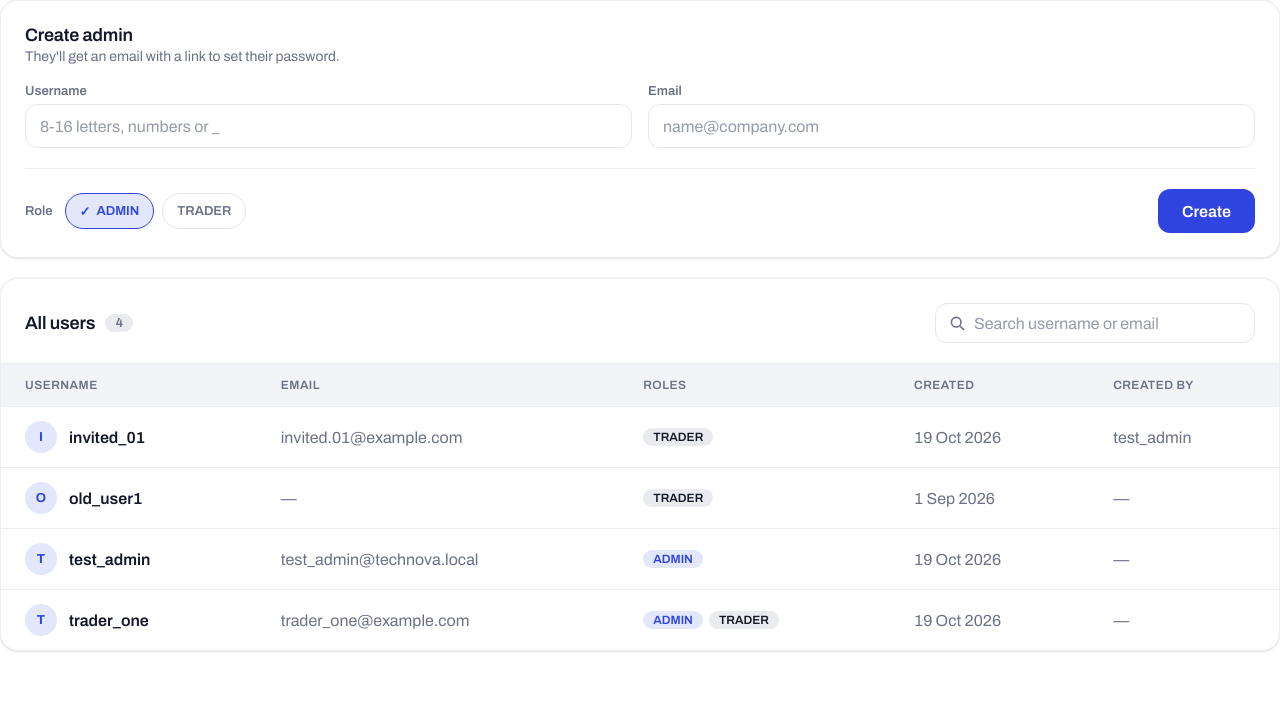
Test: AdminUsersComponent › create admin › adds the new user to the list in username order and confirms the email was sent
Type "new_admin" into the field with id "new-username" at (328, 126), box 25,104 -> 632,148
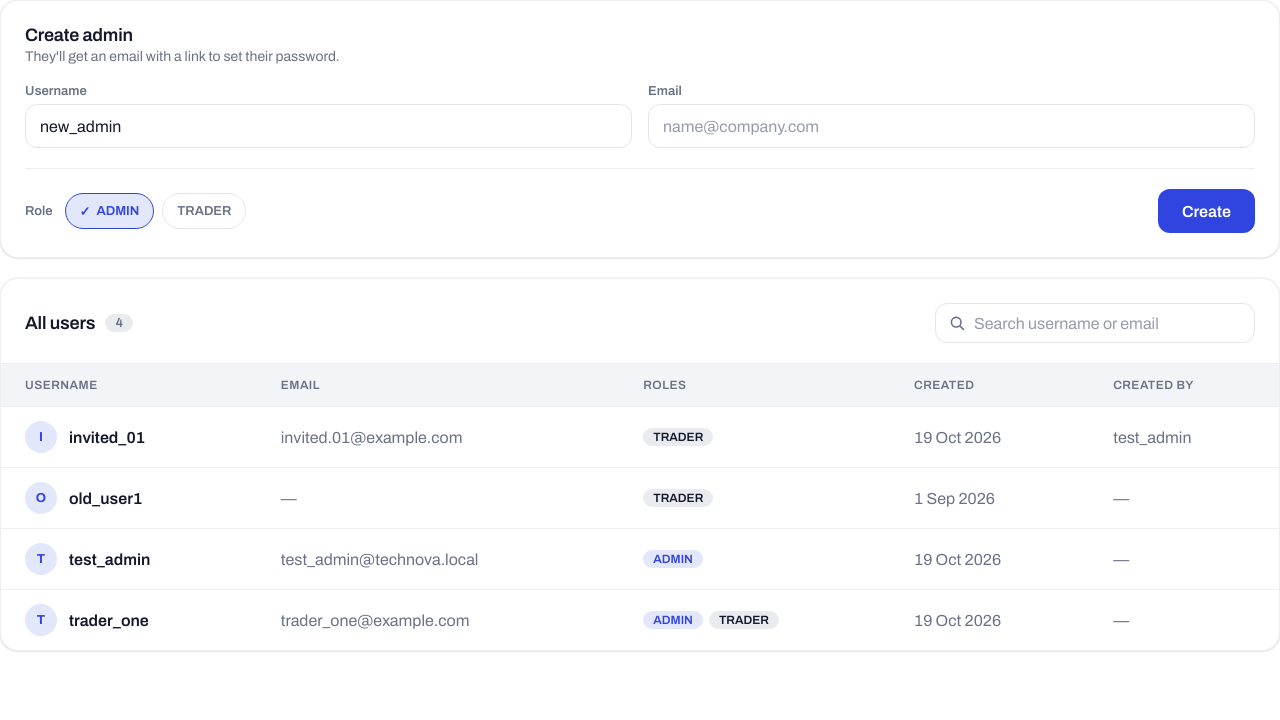
Type "new.admin@example.com" into the field with id "new-email" at (952, 126), box 648,104 -> 1255,148
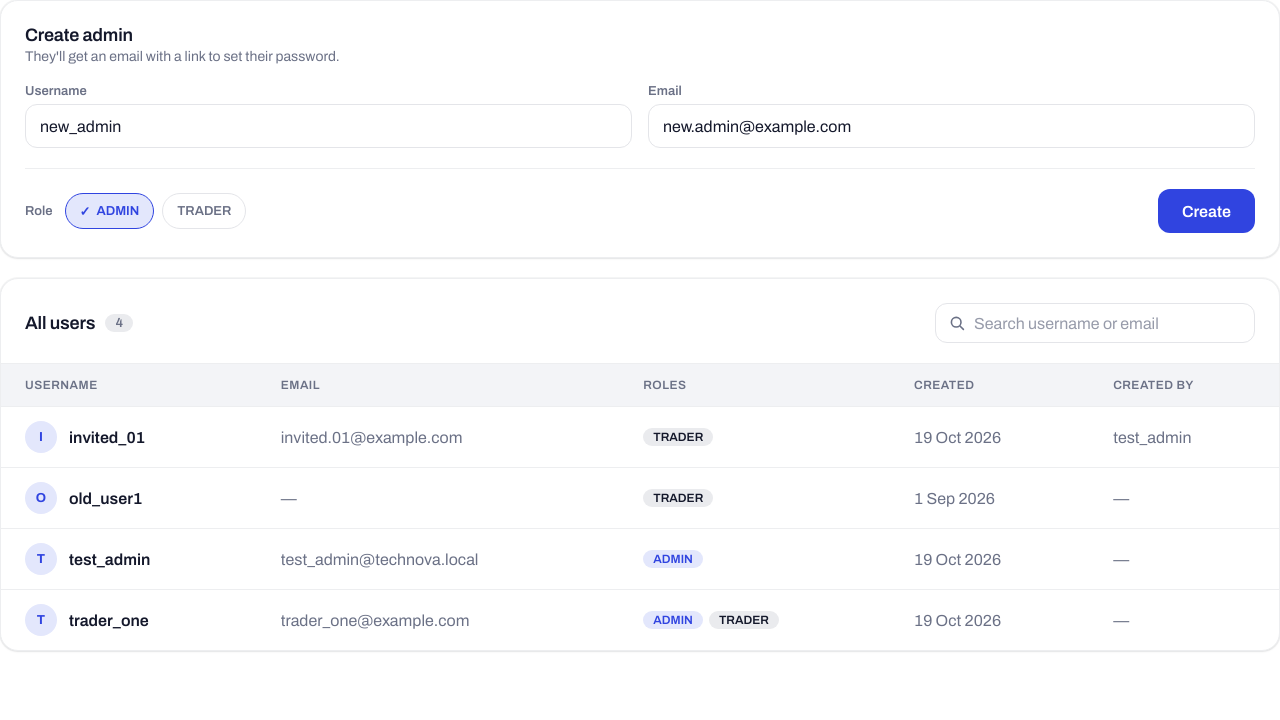
Submit the form with class "create-form", box 0,0 -> 1279,258
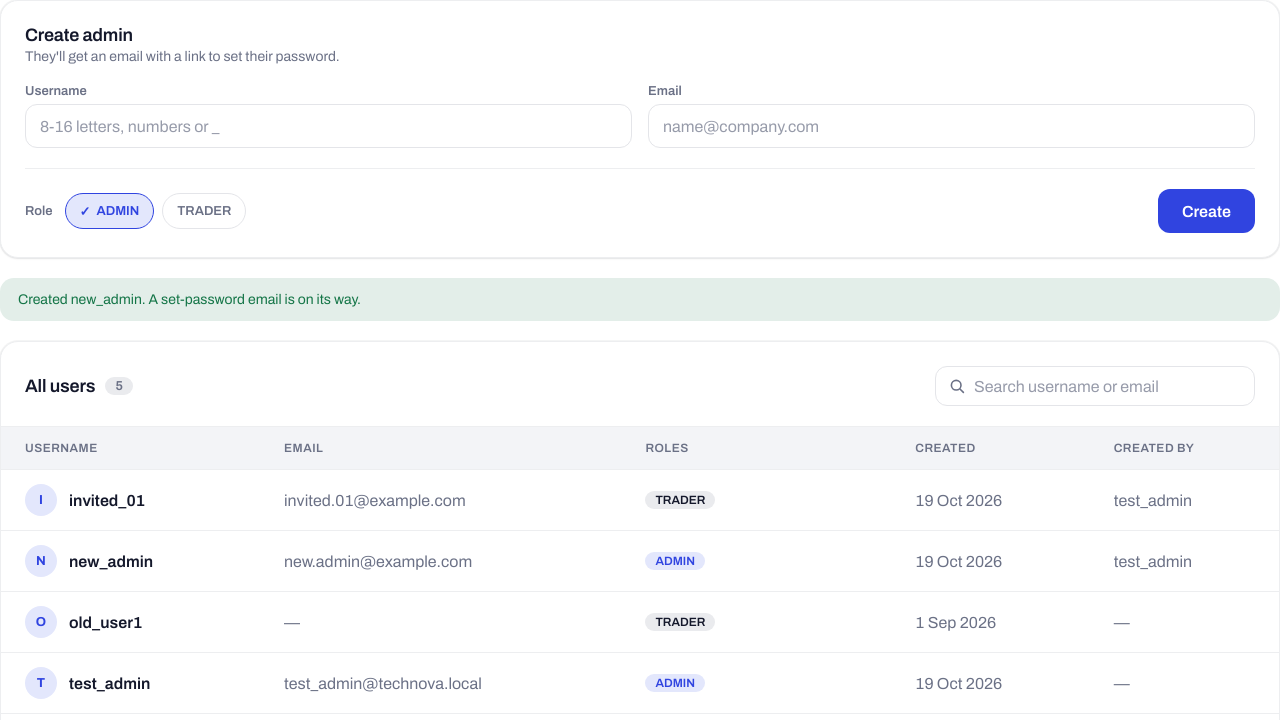
Expected: the text with class "create-result" reads "Created new_admin. A set-password email is on its way.", 18,292 -> 361,307
